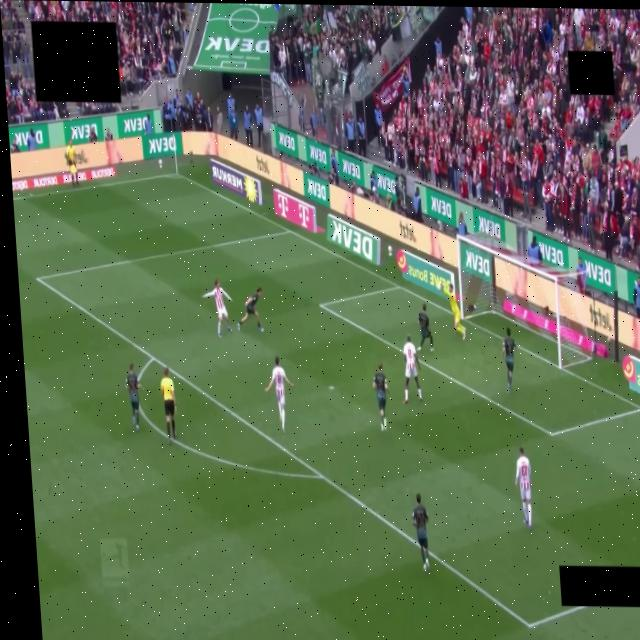player: (265, 356, 293, 432), (202, 279, 231, 337), (439, 281, 465, 340), (515, 447, 531, 529), (403, 335, 421, 404), (412, 494, 428, 571), (124, 363, 142, 431), (237, 288, 263, 332), (372, 363, 387, 430), (501, 328, 515, 392), (418, 304, 433, 351)
referee: (160, 368, 175, 444)
